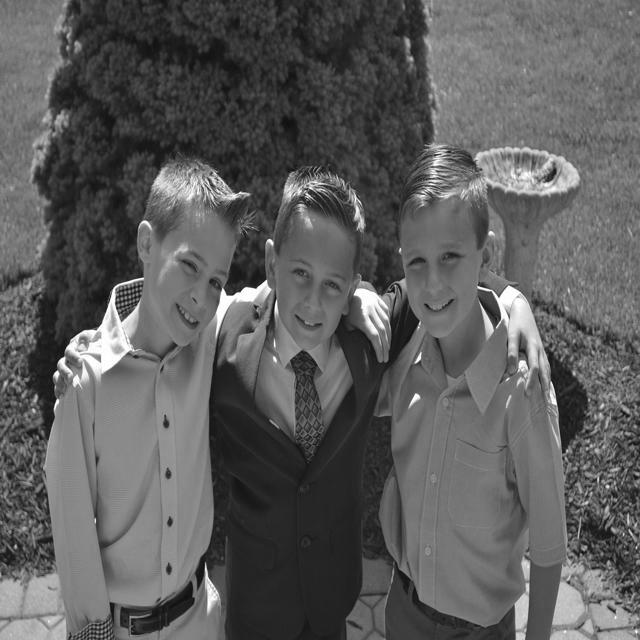Happiness: (267, 205, 360, 355), (394, 200, 488, 342), (148, 210, 238, 350)
